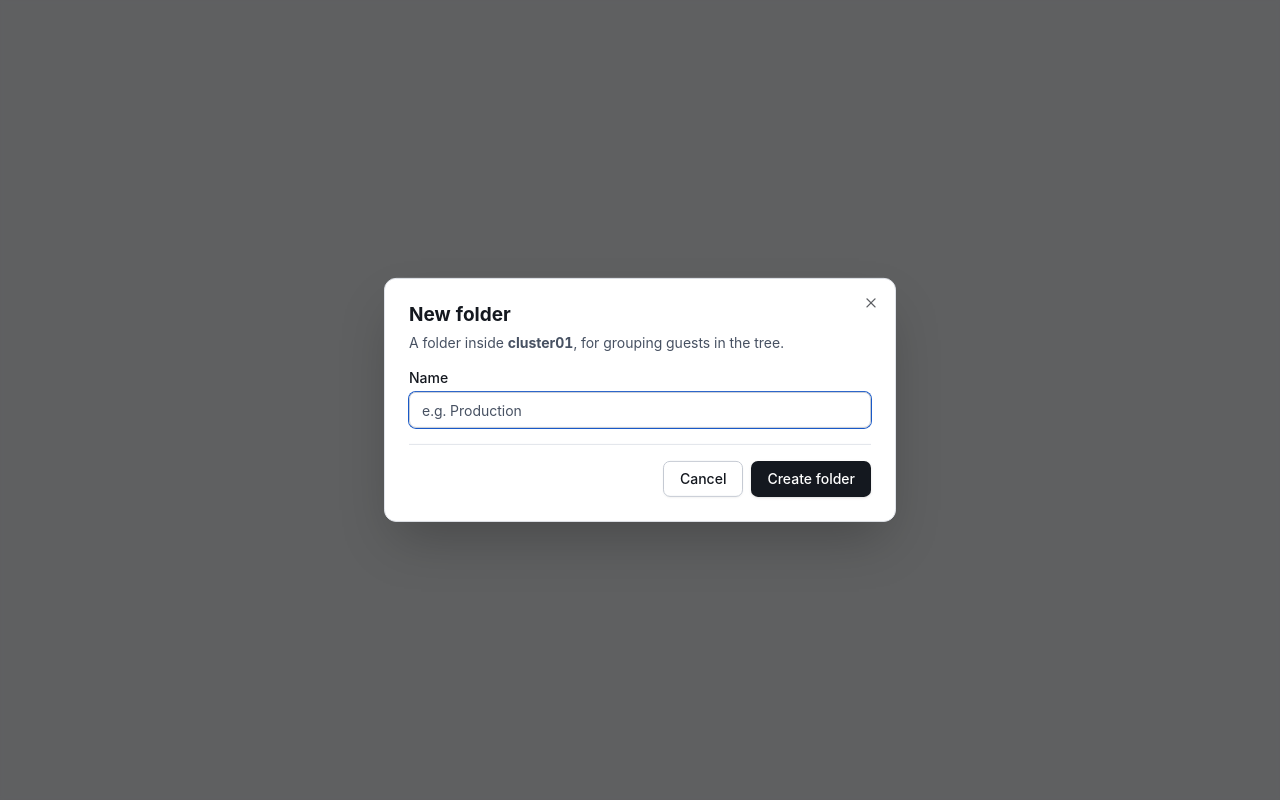
Test case: a failed save › is shown once, in place: vms: New folder
This screenshot has width=1280, height=800.
Type "Production" into the field labelled "Name" at [640, 410], box x1=409 y1=392 x2=871 y2=428
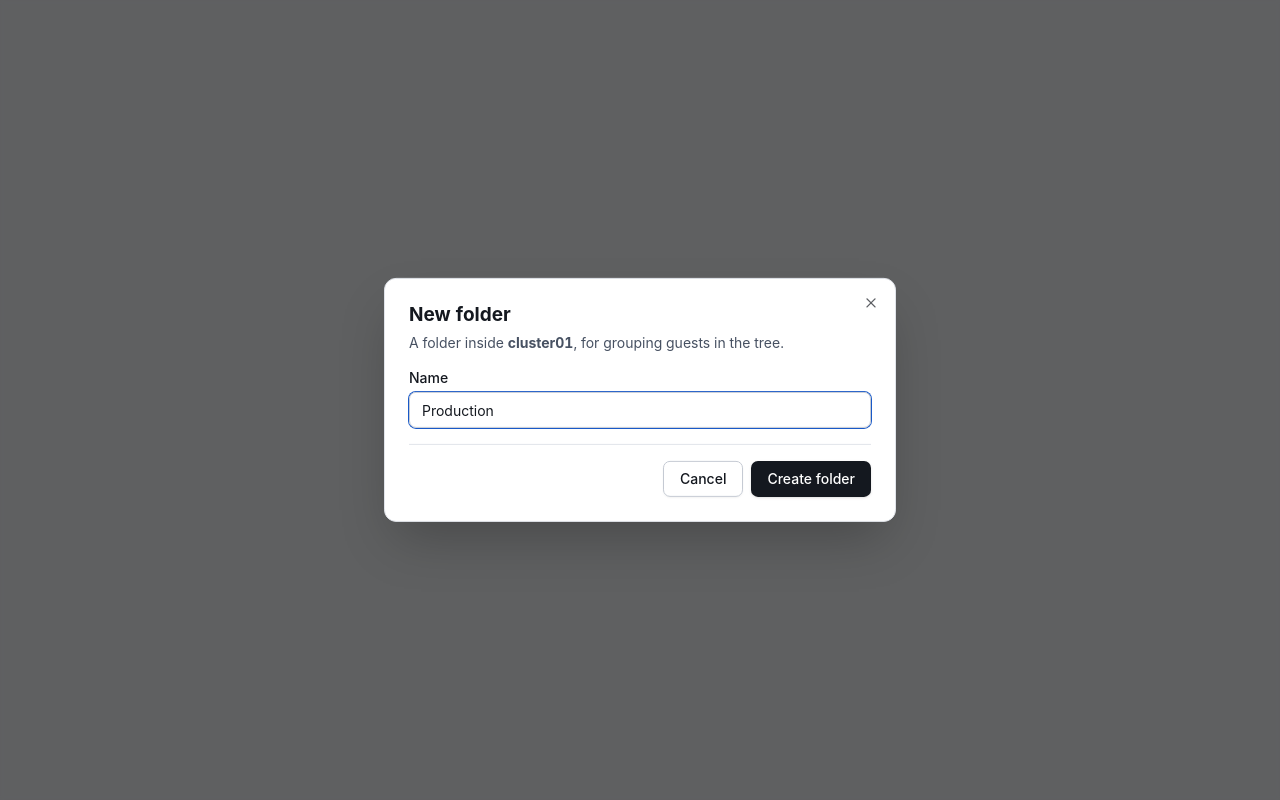
Click the button "Create folder" at [811, 479], box x1=751 y1=461 x2=871 y2=497
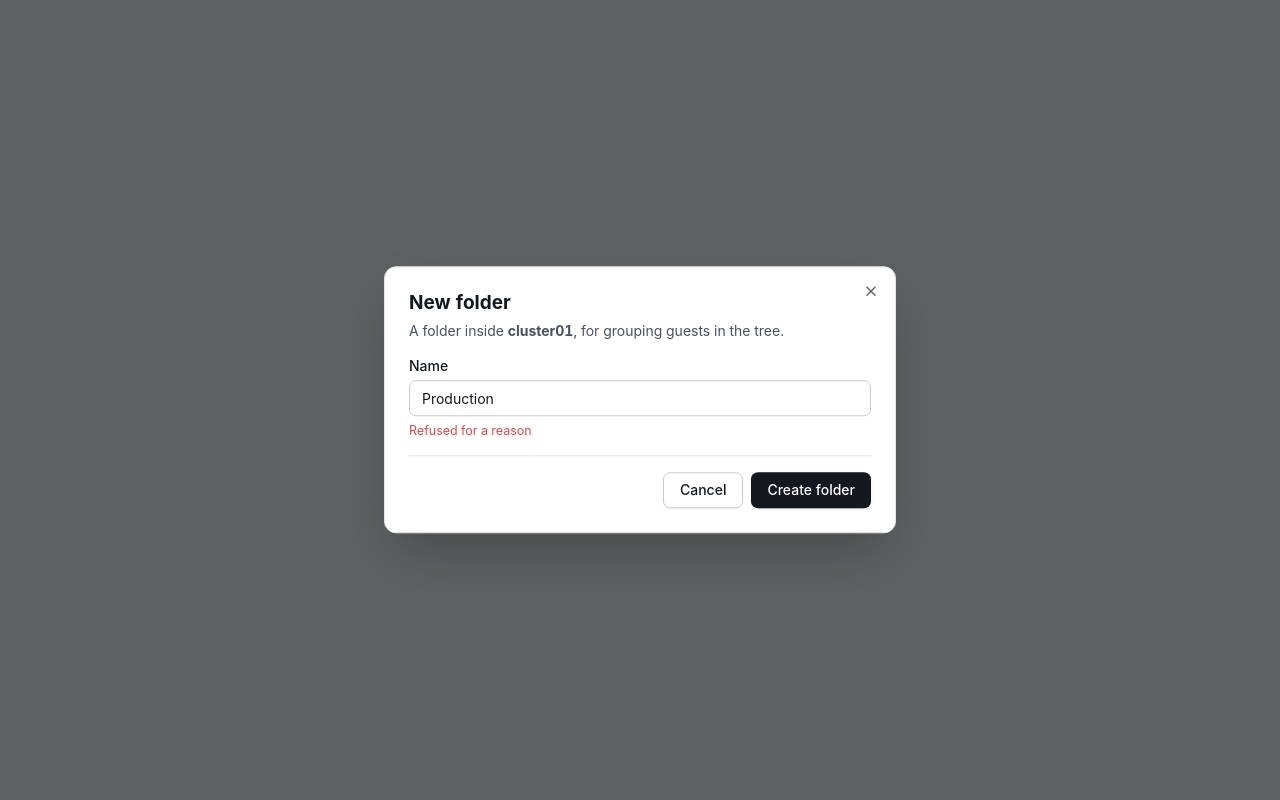
expect the text "Refused for a reason" is shown: met, box x1=409 y1=424 x2=532 y2=438
